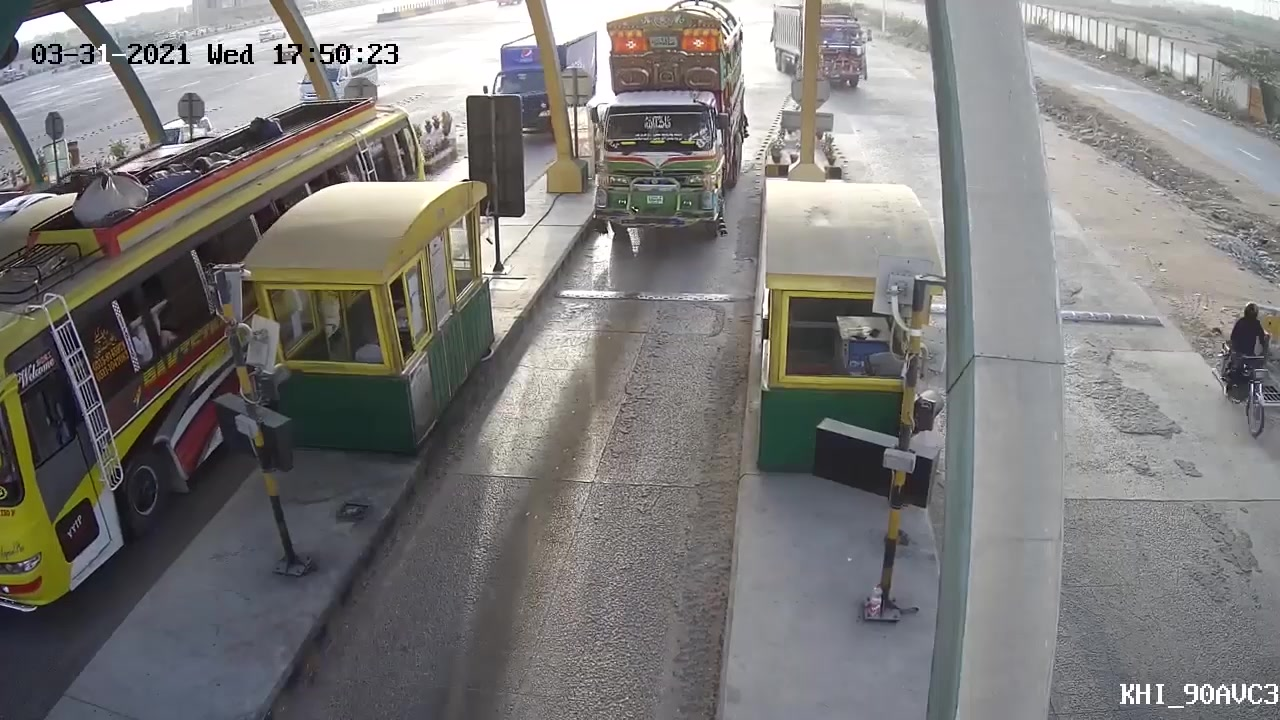F5: (585, 1, 762, 242)
